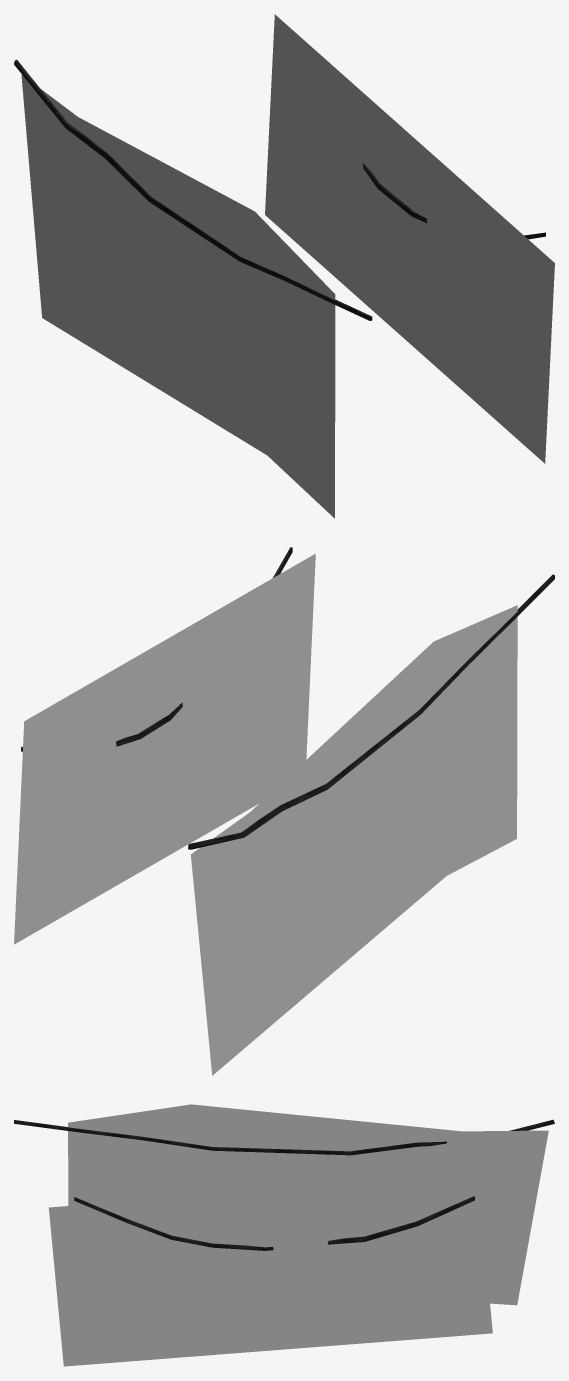
The model's file is clothes.fbx.
3 views of the same model, one above another, from view 1: azimuth 30°, elevation 25°; view 2: azimuth 150°, elevation 25°; view 3: azimuth 270°, elevation 25° (orthographic). The views are drawn at different scales.
Parts seen in each view (by area): view 1: Cloth2, Cloth1; view 2: Cloth2, Cloth1; view 3: Cloth1, Cloth2.
Part boxes in pixels (left/top/right/bottom): Cloth2: left=14, top=59, right=372, bottom=518; Cloth1: left=265, top=14, right=554, bottom=463; Cloth2: left=188, top=574, right=554, bottom=1075; Cloth1: left=14, top=547, right=315, bottom=944; Cloth1: left=49, top=1174, right=492, bottom=1366; Cloth2: left=14, top=1104, right=554, bottom=1305.
Size of the model in its own units: 205 by 573 by 243.
